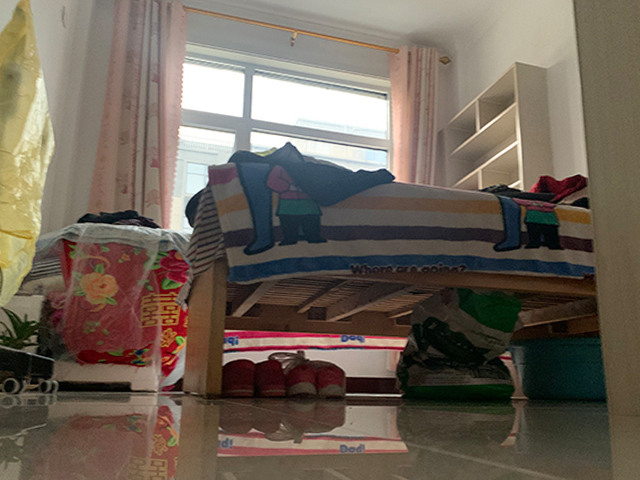bed: (178, 141, 594, 400)
curtain: (98, 1, 185, 232), (390, 42, 437, 184)
